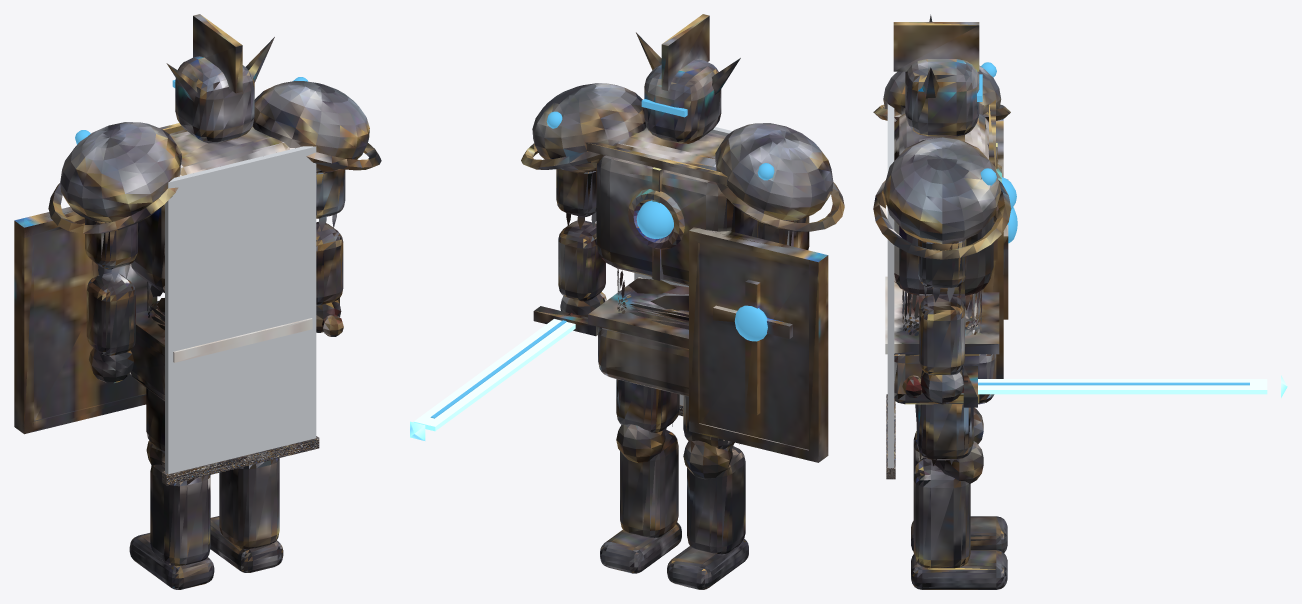
The model's file is kernel_guardian.glb.
3 renders of one model, left to right at view 1: azimuth 30°, elevation 25°; view 2: azimuth 150°, elevation 25°; view 3: azimuth 270°, elevation 25°, orthographic. The views are drawn at different scales.
Visible parts, largest first — view 1: cape.001, armor.010, armor.007, armor.002, armor, trim.006, armor.004, armor.008, trim.002, trim.008, trim.009, armor.005 (+6 smaller); view 2: armor.010, armor.007, trim.006, armor.002, armor, trim.008, armor.004, armor.011, blade, armor.005, trim.009, trim.002 (+13 smaller); view 3: armor.010, armor, armor.004, blade, trim.002, trim.009, armor.005, trim.008, armor.001, cape.001, armor.011, trim.006 (+9 smaller).
Part boxes in pixels (left/top/right/bottom): cape.001: left=165, top=146, right=316, bottom=474; armor.010: left=60, top=81, right=369, bottom=292; armor.007: left=29, top=211, right=146, bottom=420; armor.002: left=129, top=464, right=214, bottom=589; armor: left=210, top=458, right=283, bottom=572; trim.006: left=14, top=207, right=157, bottom=434; armor.004: left=175, top=56, right=254, bottom=143; armor.008: left=86, top=272, right=135, bottom=355; trim.002: left=166, top=14, right=274, bottom=101; trim.008: left=48, top=123, right=381, bottom=233; trim.009: left=136, top=300, right=312, bottom=362; armor.005: left=316, top=222, right=343, bottom=305; armor.010: left=532, top=83, right=833, bottom=285; armor.007: left=699, top=229, right=808, bottom=449; trim.006: left=689, top=227, right=828, bottom=462; armor.002: left=667, top=446, right=748, bottom=589; armor: left=600, top=429, right=681, bottom=573; trim.008: left=521, top=142, right=844, bottom=280; armor.004: left=644, top=59, right=721, bottom=143; armor.011: left=598, top=327, right=688, bottom=396; blade: left=410, top=319, right=575, bottom=440; armor.005: left=558, top=220, right=605, bottom=301; trim.009: left=588, top=277, right=688, bottom=348; trim.002: left=636, top=14, right=740, bottom=94; armor.010: left=883, top=65, right=1001, bottom=295; armor: left=911, top=457, right=1007, bottom=589; armor.004: left=905, top=59, right=979, bottom=136; blade: left=978, top=375, right=1287, bottom=397; trim.002: left=893, top=14, right=979, bottom=98; trim.009: left=885, top=276, right=999, bottom=354; armor.005: left=919, top=294, right=964, bottom=375; trim.008: left=873, top=100, right=1011, bottom=260; armor.001: left=916, top=404, right=973, bottom=460; cape.001: left=887, top=104, right=894, bottom=467; armor.011: left=894, top=354, right=996, bottom=404; trim.006: left=983, top=119, right=1008, bottom=378.
Size of the model in its own units: 0.6638 by 1.05 by 0.727.
Materials: 6 (3 with a texture image).
